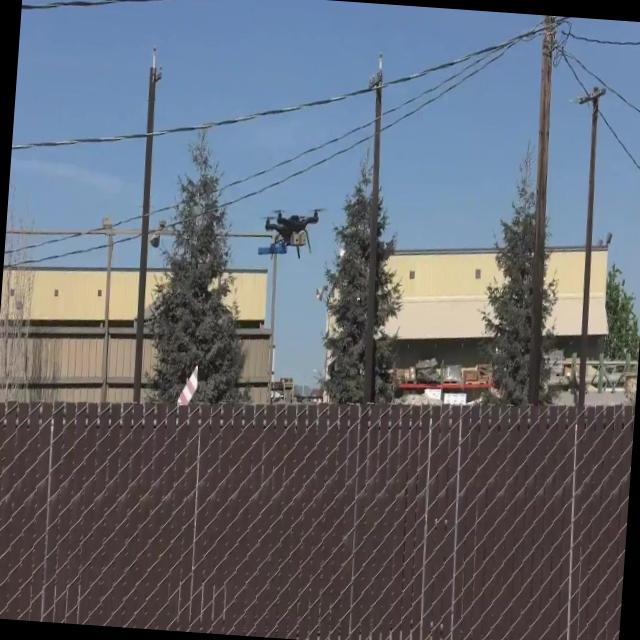drone: (257, 200, 321, 265)
